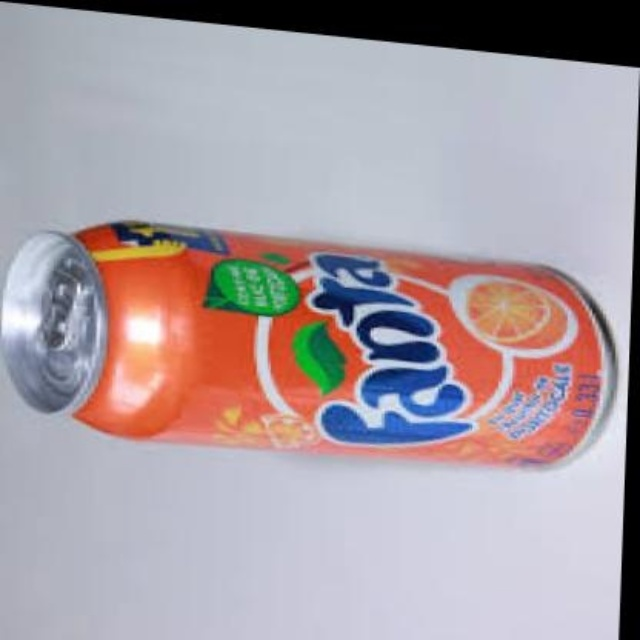trash: (0, 222, 615, 465)
